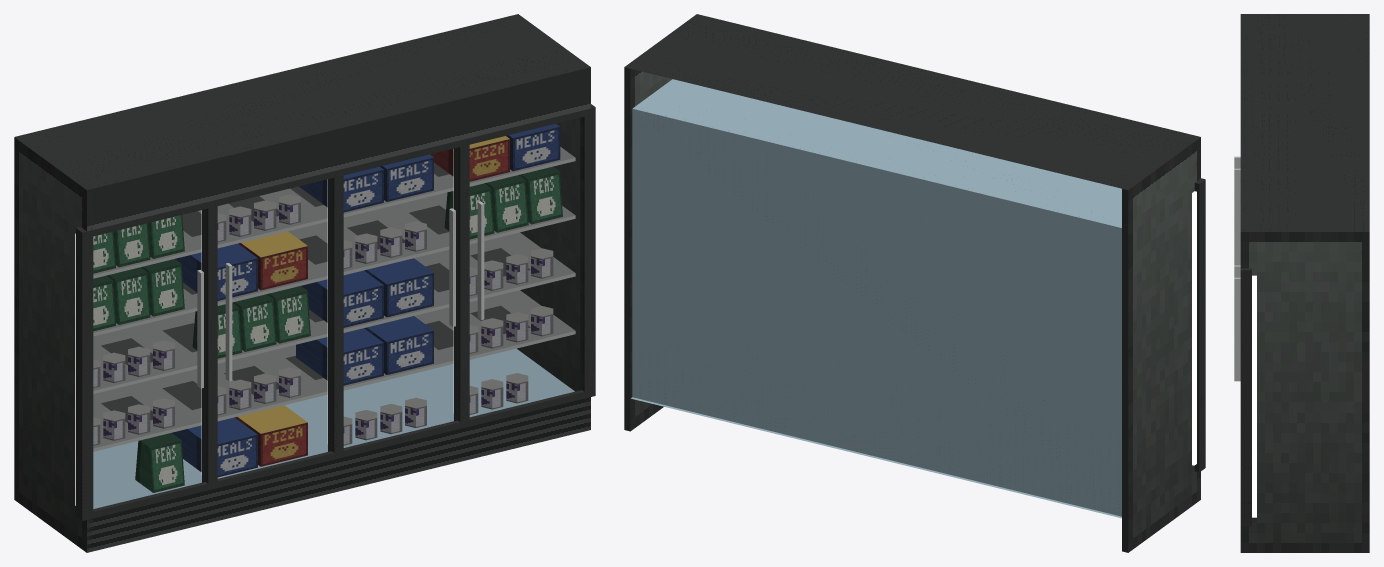
Rendered from freezer.glb.
3 views of the same model, side by side, from view 1: azimuth 30°, elevation 25°; view 2: azimuth 150°, elevation 25°; view 3: azimuth 270°, elevation 25° (orthographic). The views are drawn at different scales.
Visible parts, largest first — view 1: Freezer; view 2: Freezer; view 3: Freezer.
Part boxes in pixels (box(x1,y1,x2,y2)): Freezer: box(14, 14, 595, 552); Freezer: box(624, 14, 1205, 552); Freezer: box(1234, 14, 1369, 552).
Size of what is drawn, in the model's own units: 3.26 by 2.2 by 0.84.
4 materials, 2 textured.
